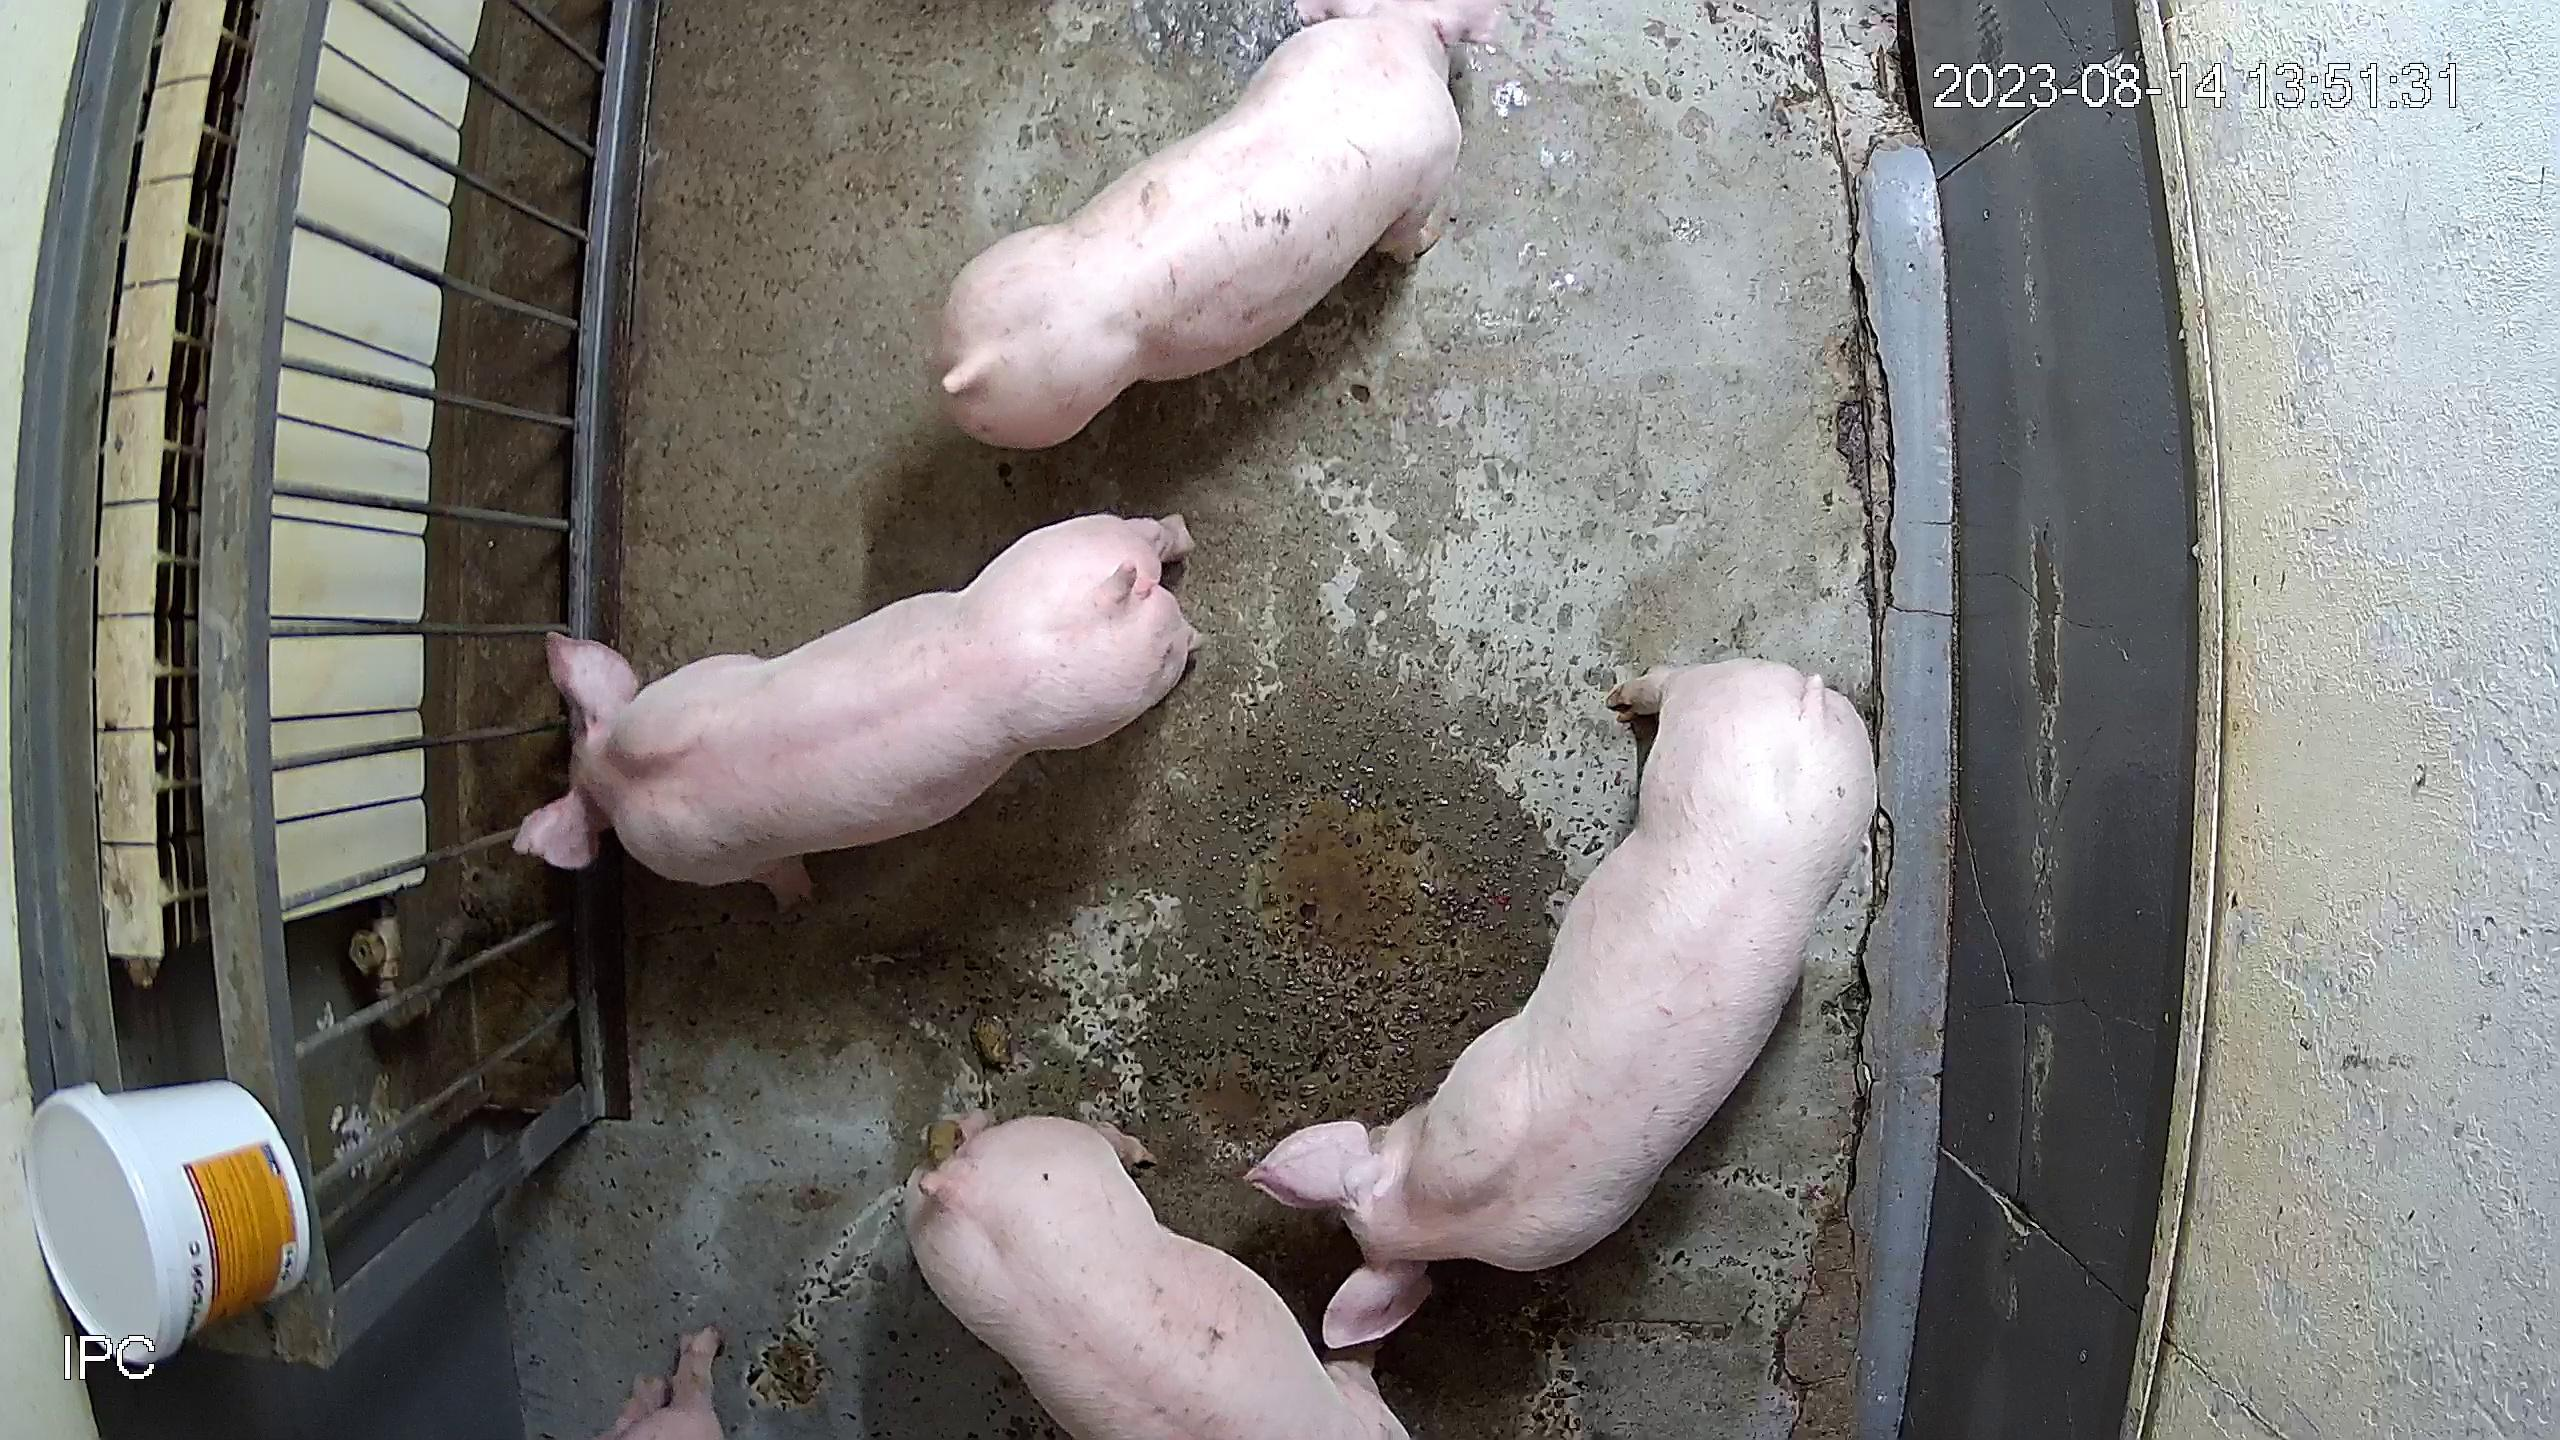Pig: (1247, 658, 1880, 1349), (513, 512, 1197, 905), (941, 0, 1502, 445), (904, 1115, 1405, 1440), (596, 1327, 723, 1440)
